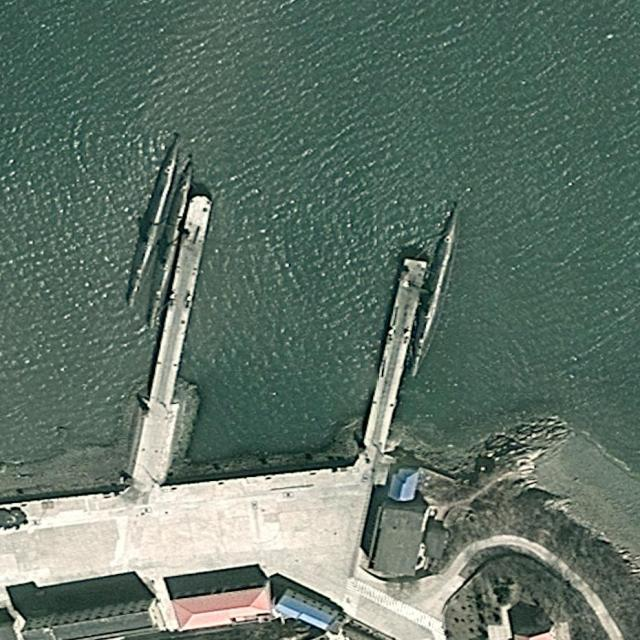Submarine: (401, 202, 466, 380), (122, 136, 185, 306), (142, 153, 198, 331)
